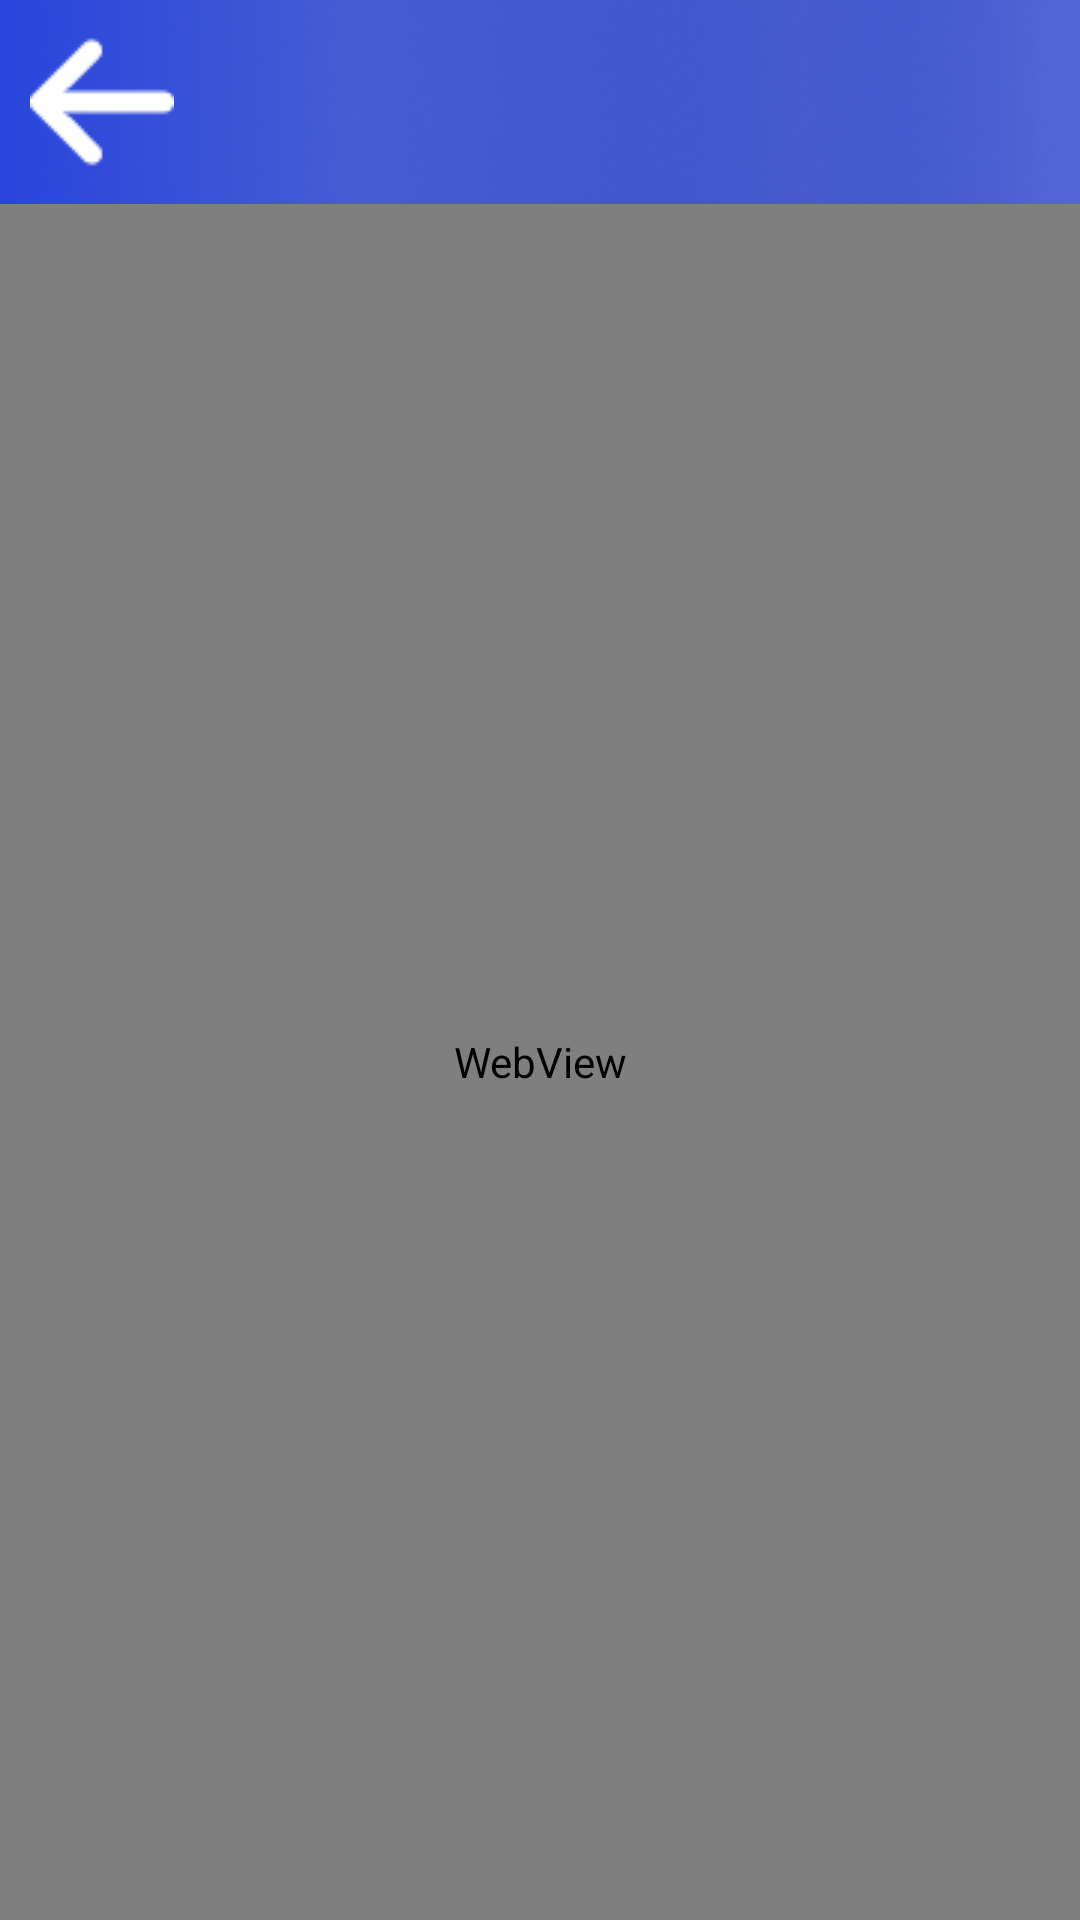

Icons on this 1080w x 1920h Android screen, each with the point to tap as point (x, y):
arrow: point (102, 102)
